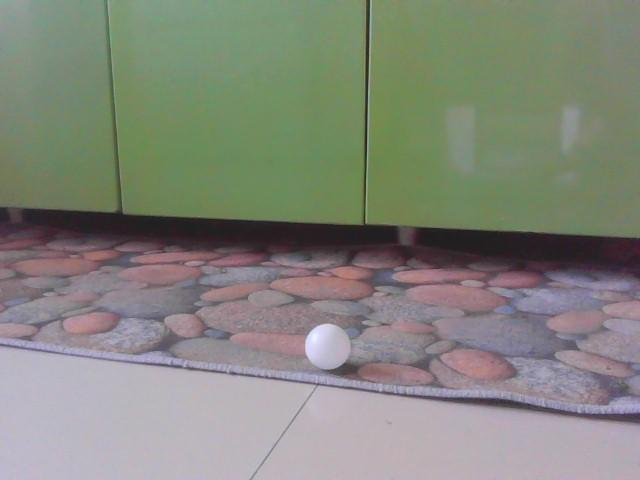ball: (306, 325, 351, 369)
